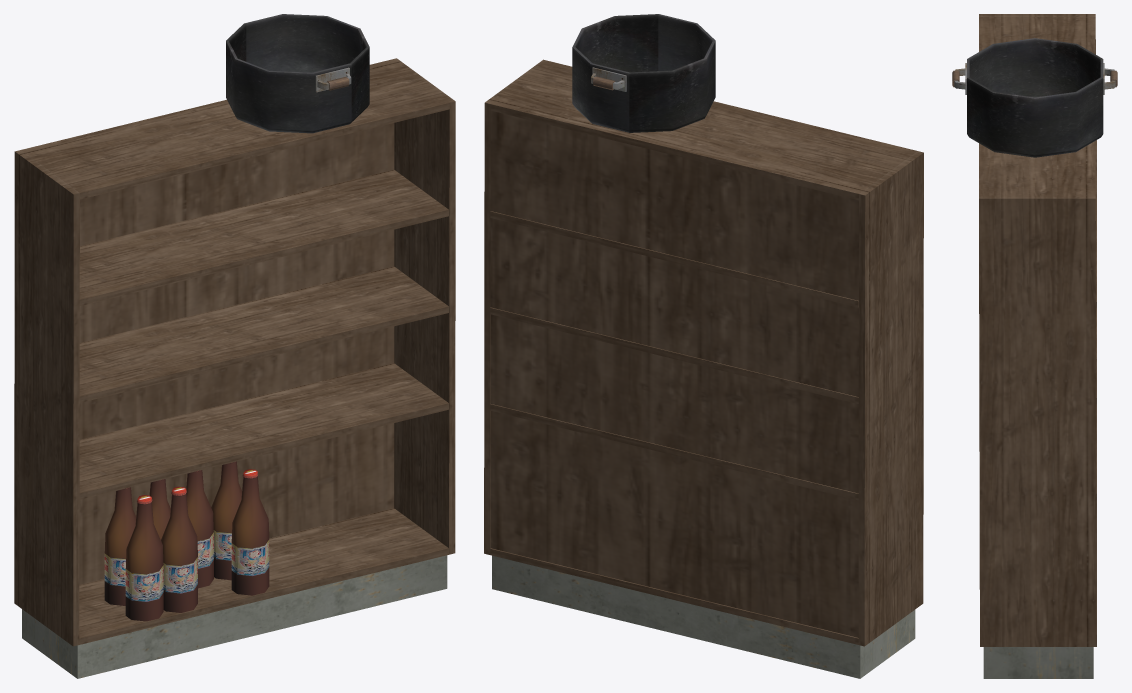
File: cabin01wb.fbx
3 renders of one model, left to right at view 1: azimuth 30°, elevation 25°; view 2: azimuth 150°, elevation 25°; view 3: azimuth 270°, elevation 25°, orthographic.
Parts seen in each view (by area): view 1: cabin01wb; view 2: cabin01wb; view 3: cabin01wb.
Part boxes in pixels (left/top/right/bottom): cabin01wb: left=14, top=14, right=455, bottom=678; cabin01wb: left=484, top=14, right=923, bottom=678; cabin01wb: left=952, top=14, right=1117, bottom=678.
Size of the model in its own units: 124 by 46.85 by 172.
3 materials, 3 textured.
